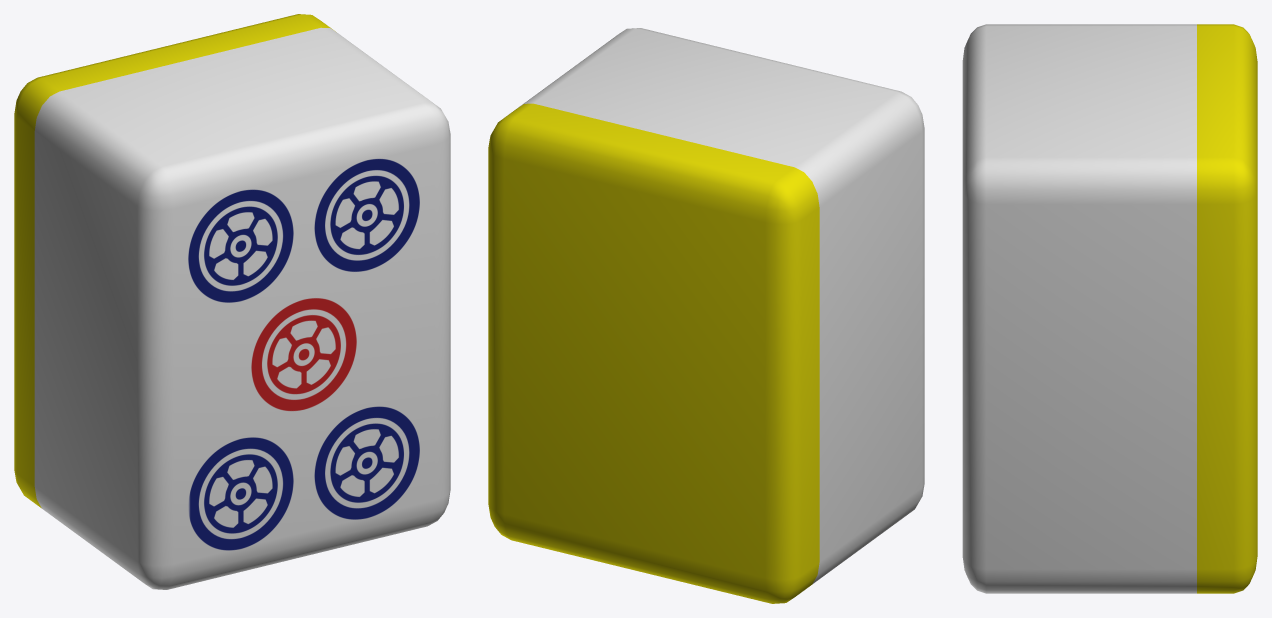
Rendered from pinzu5.glb.
3 views of the same model, side by side, from view 1: azimuth 30°, elevation 25°; view 2: azimuth 150°, elevation 25°; view 3: azimuth 270°, elevation 25° (orthographic). The views are drawn at different scales.
Parts seen in each view (by area): view 1: Cube, Cube.001; view 2: Cube; view 3: Cube.
Part boxes in pixels (x1,y1,x2,y2): Cube: (14, 14, 450, 589); Cube.001: (188, 159, 419, 550); Cube: (488, 28, 924, 603); Cube: (962, 24, 1257, 593).
Size of the model in its own units: 2 by 2.6 by 1.6.
Materials: 3 (1 with a texture image).
